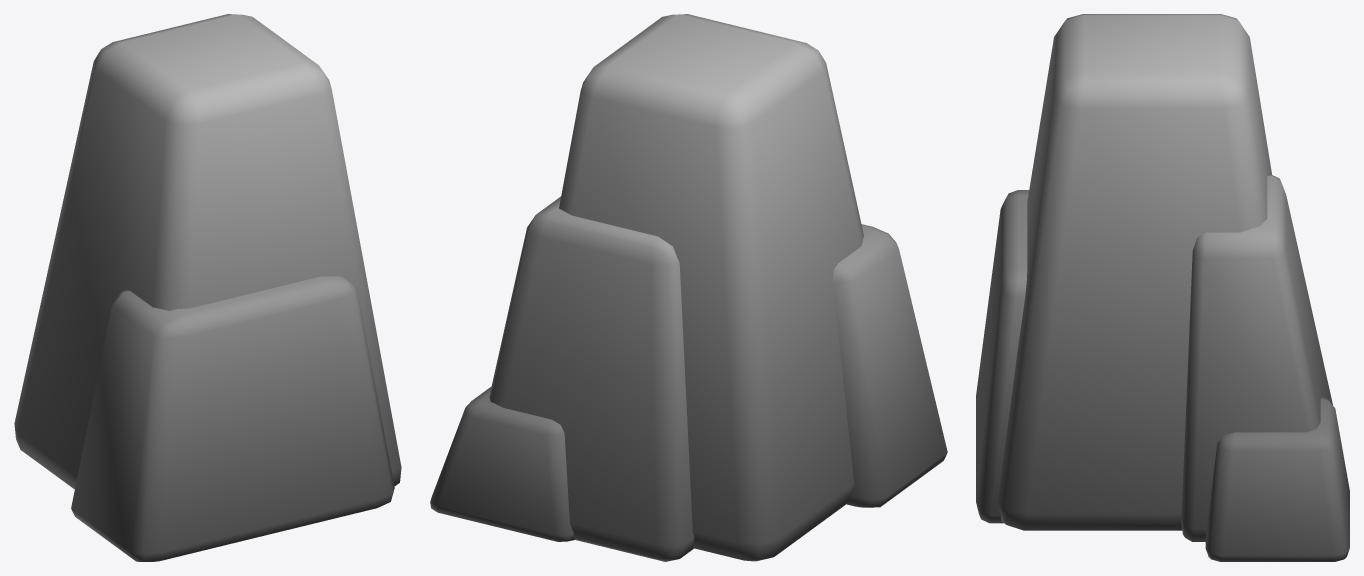
File: pedra media.fbx
3 renders of one model, left to right at view 1: azimuth 30°, elevation 25°; view 2: azimuth 150°, elevation 25°; view 3: azimuth 270°, elevation 25°, orthographic. The views are drawn at different scales.
Visible parts, largest first — view 1: pedramedia; view 2: pedramedia; view 3: pedramedia.
Part boxes in pixels (x1,y1,x2,y2): pedramedia: (14, 14, 401, 561); pedramedia: (430, 14, 947, 561); pedramedia: (976, 14, 1349, 561).
Size of the model in its own units: 215 by 257 by 201.
